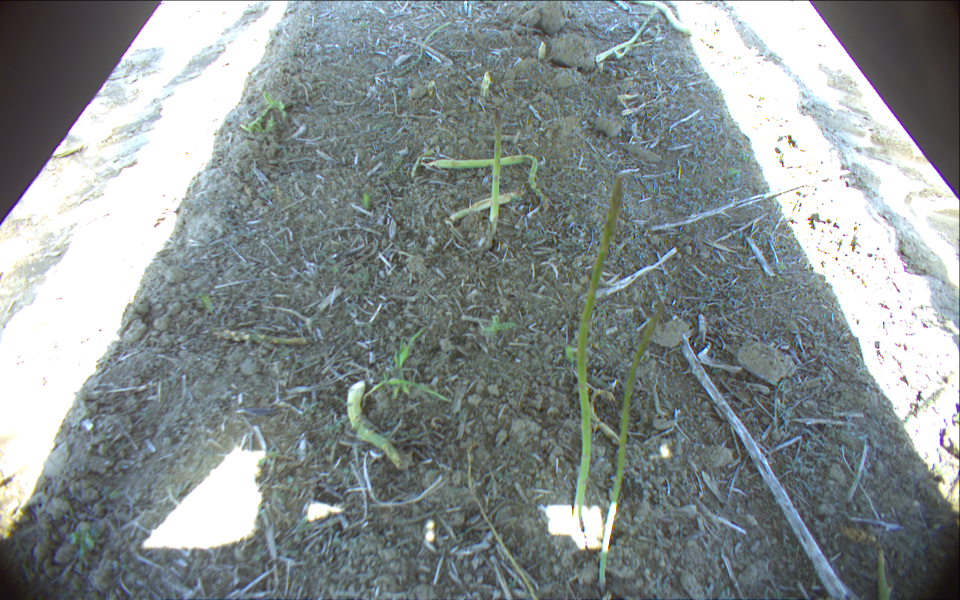aspa: (596, 301, 667, 589), (572, 176, 625, 522), (427, 154, 552, 206), (346, 380, 400, 468), (397, 21, 451, 76), (599, 18, 661, 62), (210, 327, 313, 348), (628, 1, 692, 34), (448, 192, 517, 222), (619, 9, 657, 59), (488, 107, 503, 227), (478, 71, 492, 98), (537, 39, 548, 61)
